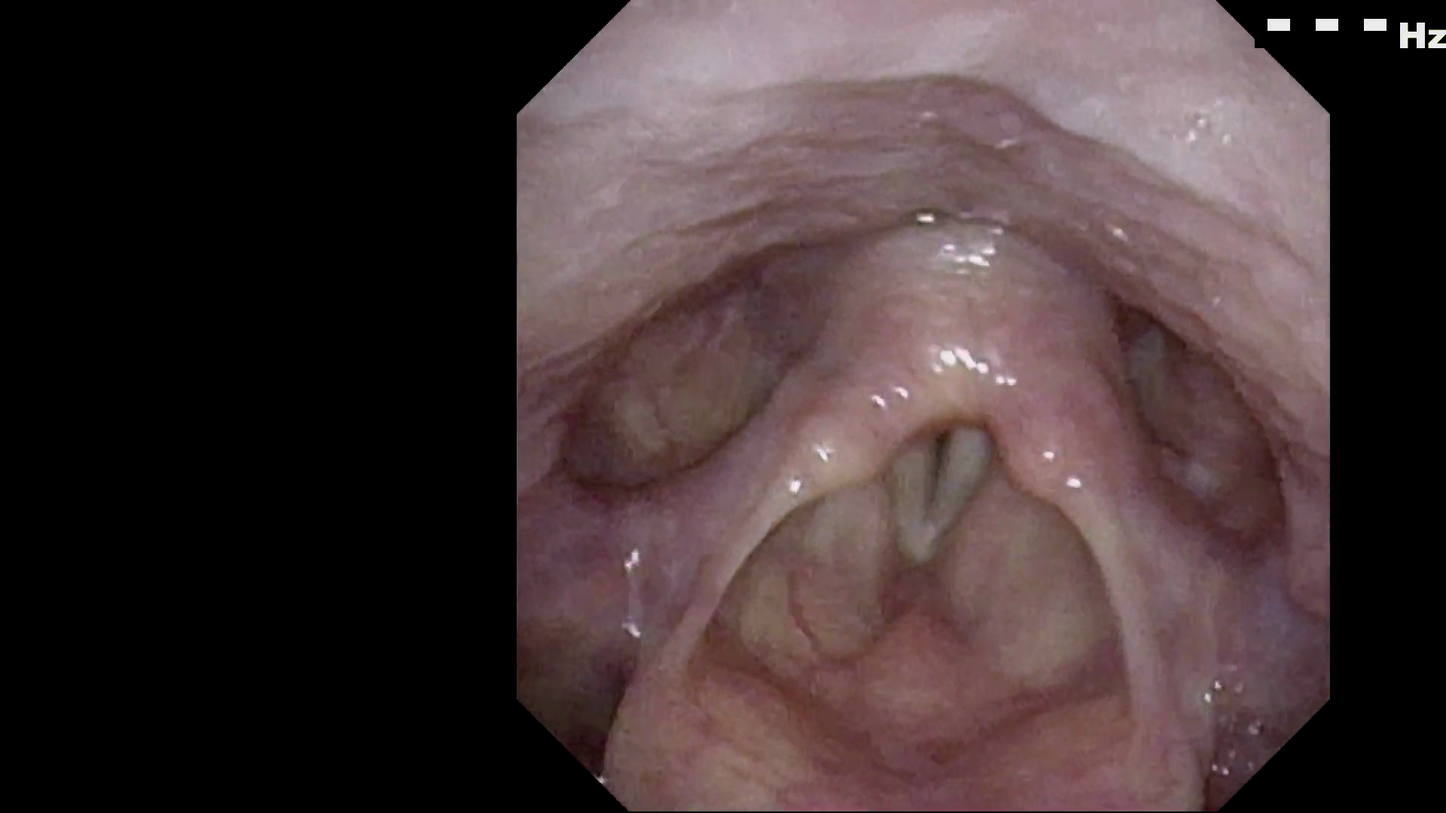epiglottis: (616, 569, 1243, 758)
trachea: (868, 378, 1038, 566)
